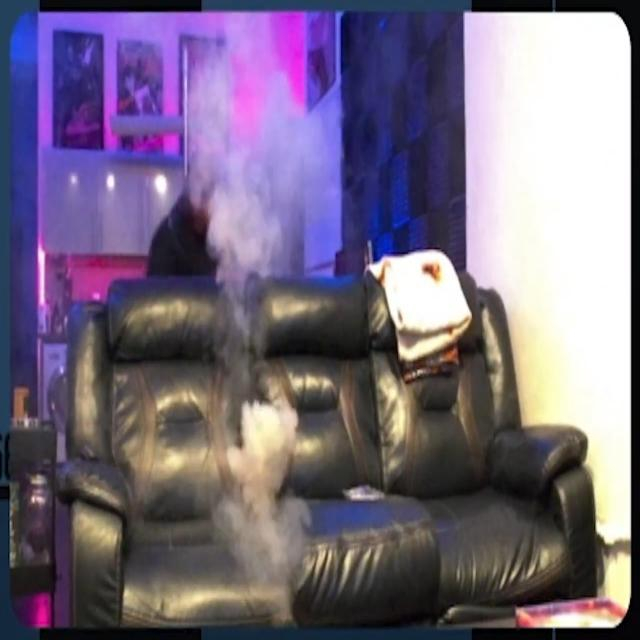Smoke: (198, 26, 310, 584)
